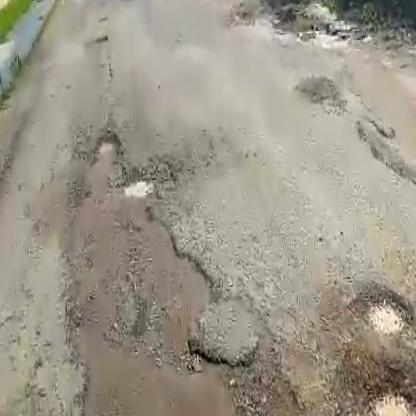pothole: (335, 344, 416, 416), (356, 285, 413, 344), (125, 175, 156, 200), (92, 135, 121, 155)
